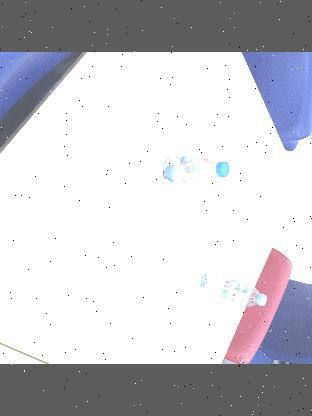Plastic Bottle: (137, 154, 229, 186), (195, 270, 267, 308)
